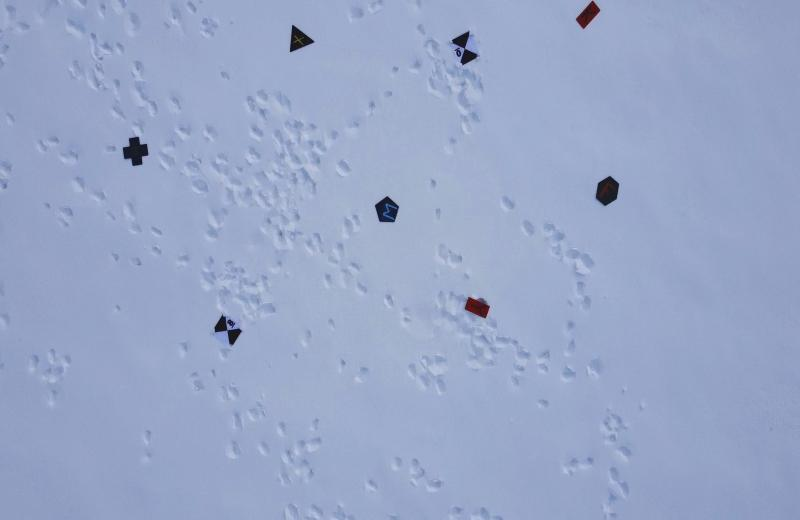Cross: (119, 133, 151, 167)
Hexagon: (594, 173, 624, 210)
Pentagon: (372, 194, 402, 228)
Rectangle: (572, 0, 603, 33), (462, 294, 494, 324)
Triangle: (282, 23, 315, 56)
